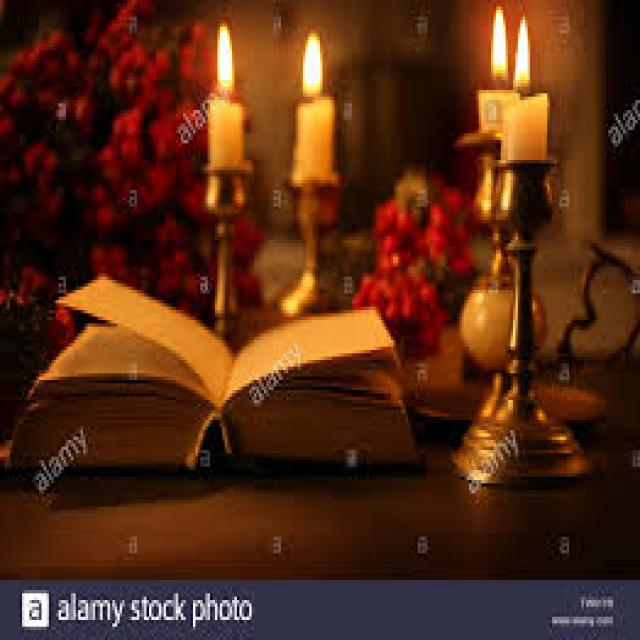fire: (293, 23, 332, 104), (503, 7, 535, 83), (479, 0, 508, 77), (208, 13, 232, 94)
